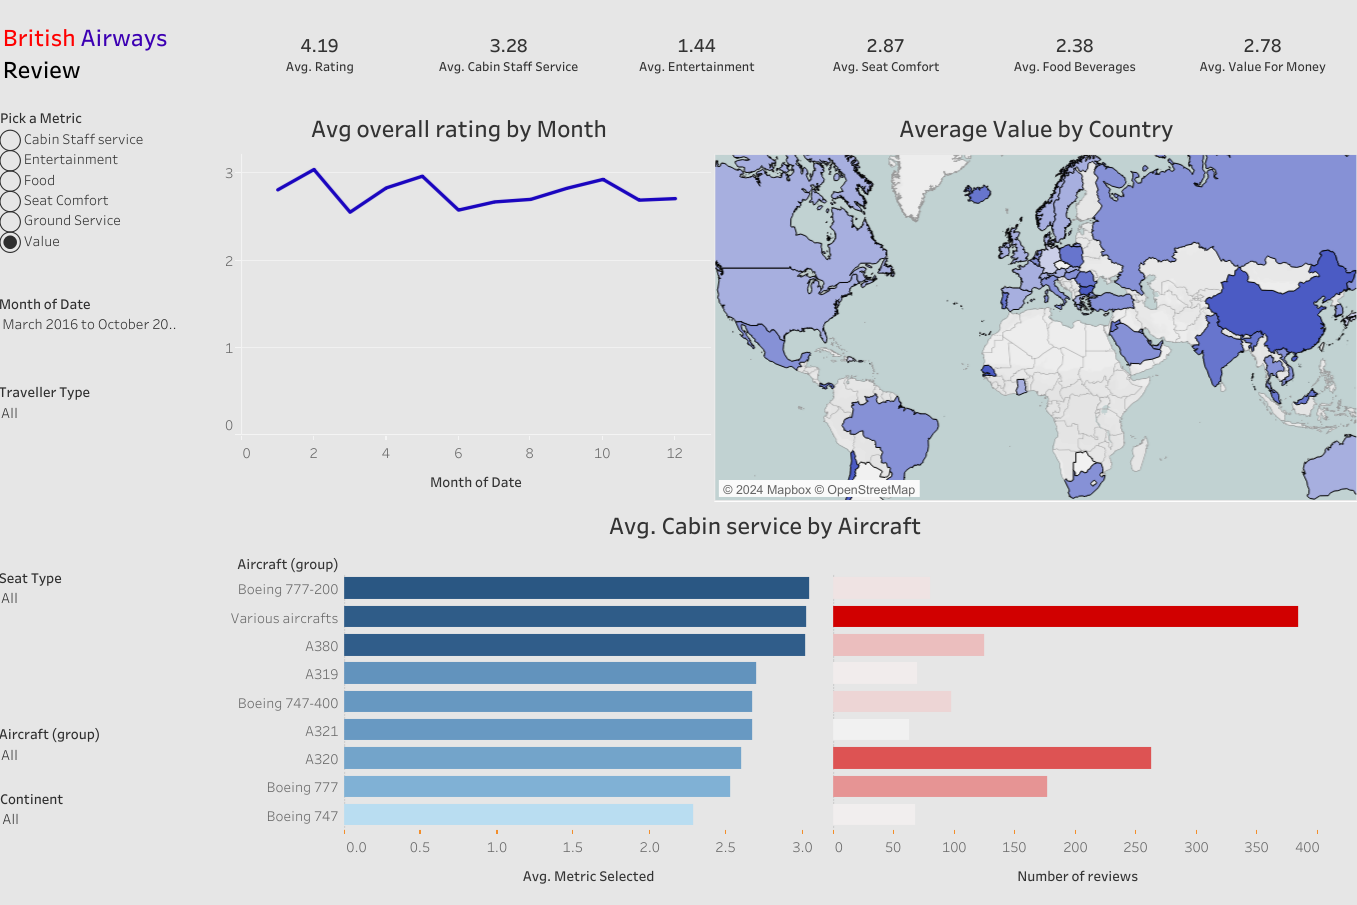

What the dashboard file says about the page in this screenshot:
{"tool":"tableau","page":{"name":"Dashboard 1","canvas":[1000,1000],"units":"permille","ordinal":0},"visuals":[{"type":"text","box":[0,0,166.7,117.4]},{"type":"worksheet","title":"Sheet 2","mark":"Automatic","box":[166.7,0,833.3,117.4]},{"type":"worksheet","title":"Month","mark":"Automatic","rows":["Calculation_108649397489405952"],"cols":["date"],"box":[152.5,116.2,370.8,435.4]},{"type":"worksheet","title":"Map","mark":"Automatic","box":[525.8,116.2,474.2,437.8]},{"type":"parameter","param":"[Parameters].[Parameter 1]","box":[0,117.4,133.3,194.8]},{"type":"worksheet","title":"Aircraft","mark":"Automatic","cols":["Calculation_108649397489405952","ba_reviews.csv_7F35BEF90B2546E3A5D1DA25CC92C46B"],"box":[153.3,555.2,846.7,443.7]},{"type":"filter","title":"Sheet 2","param":"[federated.18yso2u0hryasg1fdx7970ldu2ij].[none:Continent:nk]","box":[0,868.5,133.3,62.2]}]}

Visuals, with their boxes on the dashboard's canvas, which has no fixed pixel size, in thousandths of its width and height (x1, y1, x2, y2). These are canvas units, not pixel positions in the 1357x905 screenshot, which may show the page scaled, cropped or inside an application window:
text: [x1=0, y1=0, x2=167, y2=117]
"Sheet 2" worksheet: [x1=167, y1=0, x2=1000, y2=117]
"Month" worksheet: [x1=152, y1=116, x2=523, y2=552]
"Map" worksheet: [x1=526, y1=116, x2=1000, y2=554]
parameter: [x1=0, y1=117, x2=133, y2=312]
"Aircraft" worksheet: [x1=153, y1=555, x2=1000, y2=999]
"Sheet 2" filter: [x1=0, y1=868, x2=133, y2=931]
